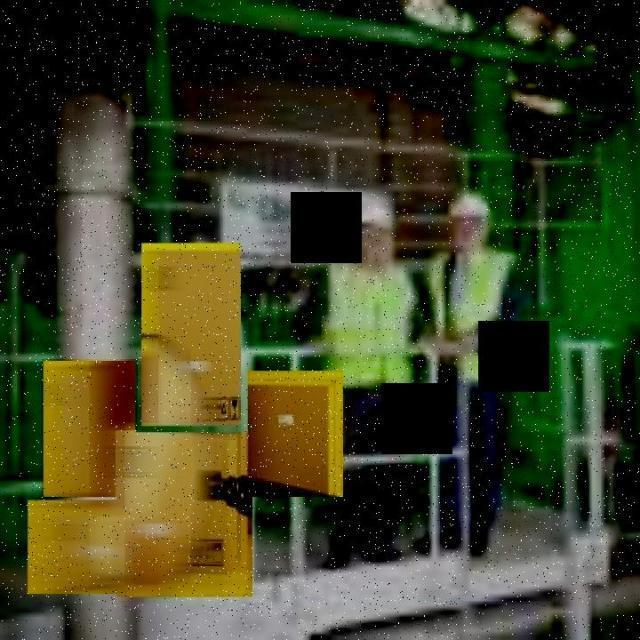box: (116, 430, 255, 601), (141, 240, 242, 430), (42, 360, 138, 500), (246, 370, 346, 500), (27, 498, 128, 598)
